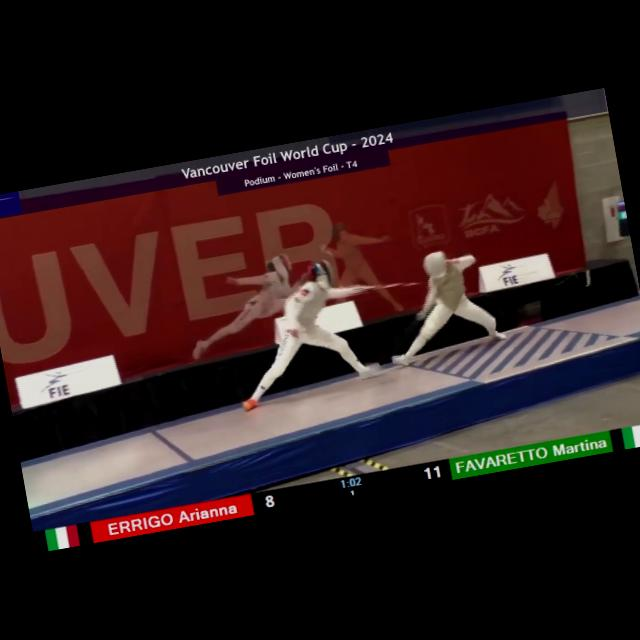blade: (371, 310, 432, 366), (358, 270, 428, 300)
